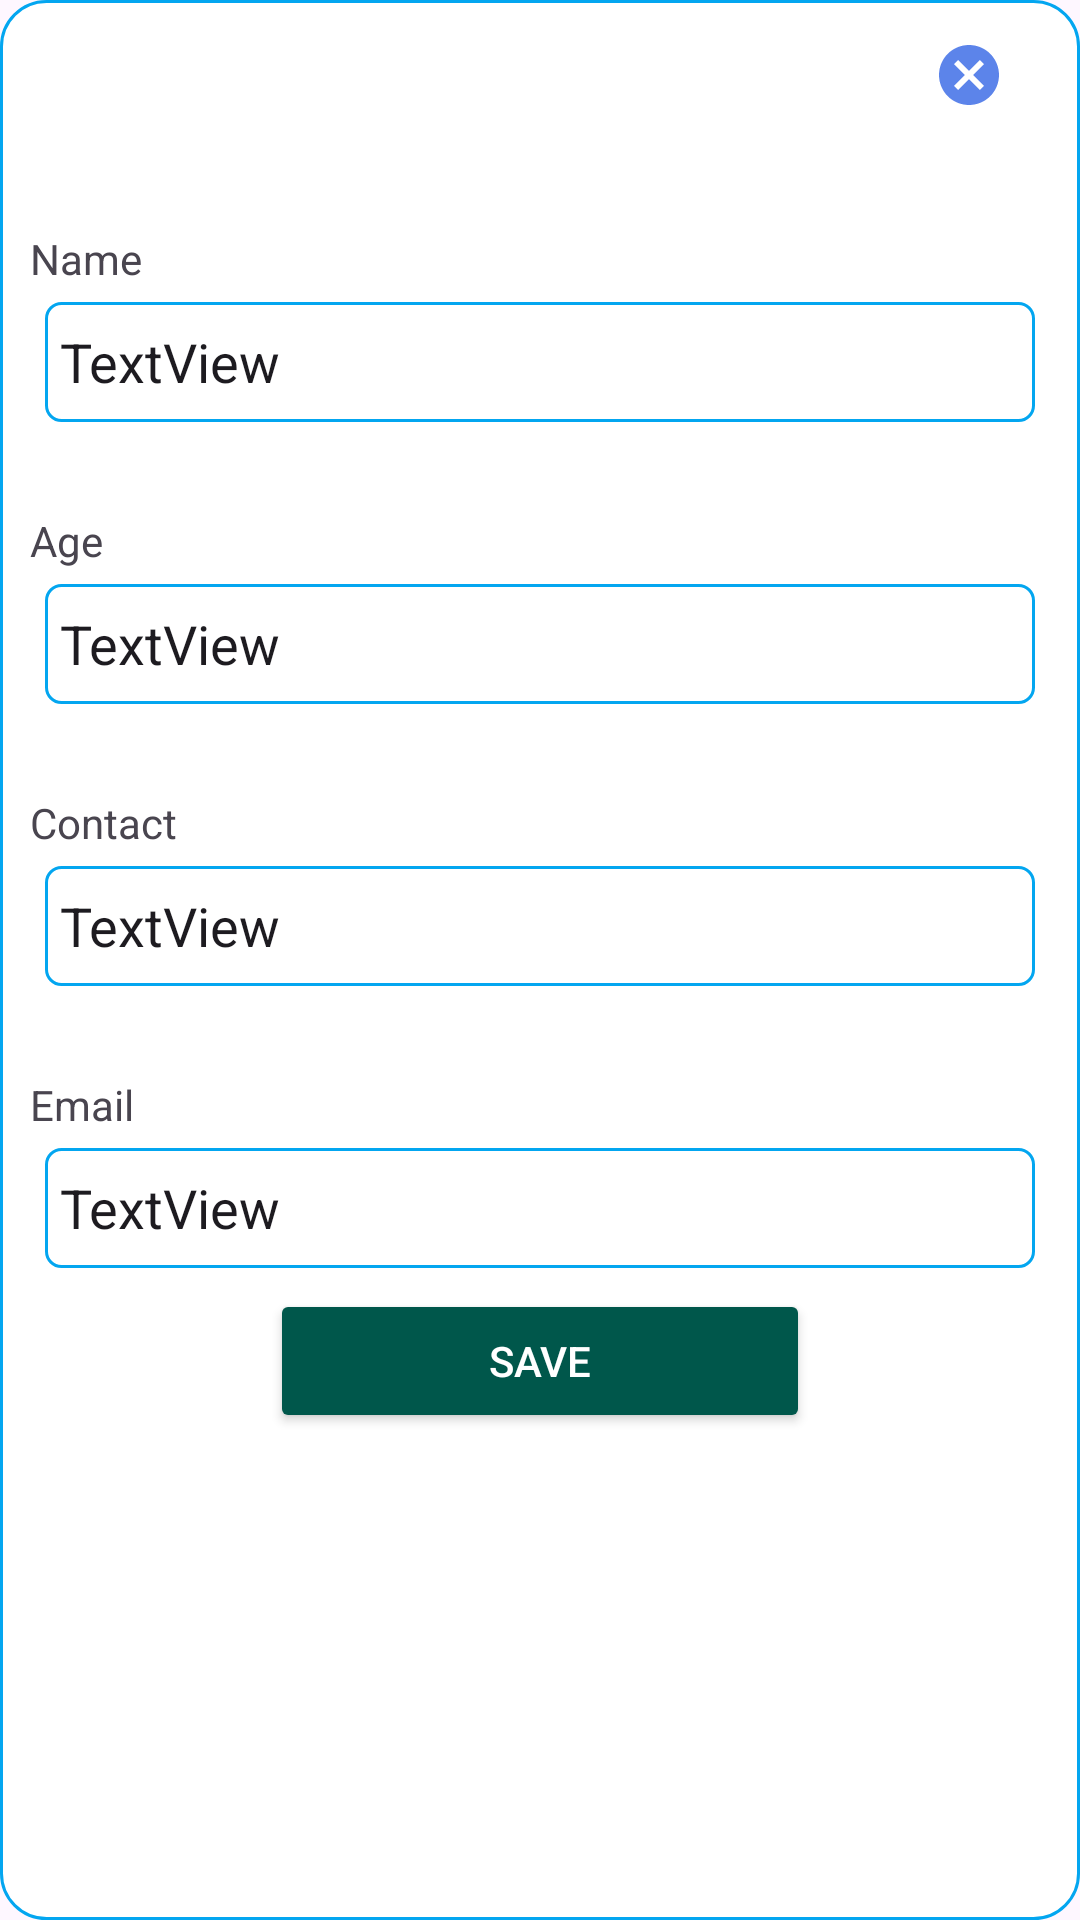

Locate icon controls on the screen. Image size 1080 × 1920, boxes as (x1, y1, x2, y2).
cancel: (939, 45, 999, 105)
